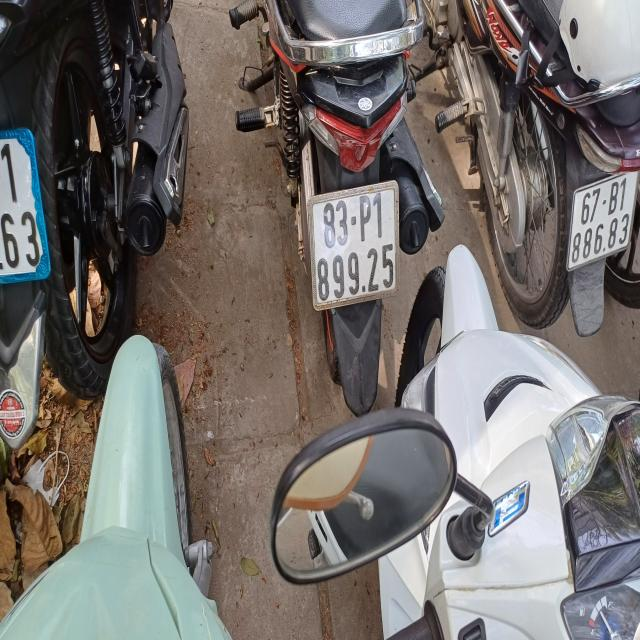1: (372, 189, 384, 239)
2: (366, 245, 379, 292)
3: (335, 199, 349, 244)
5: (381, 240, 395, 288)
8: (322, 199, 338, 248), (317, 256, 330, 302)
9: (332, 254, 346, 300), (347, 250, 361, 295)
P: (357, 191, 373, 243)
